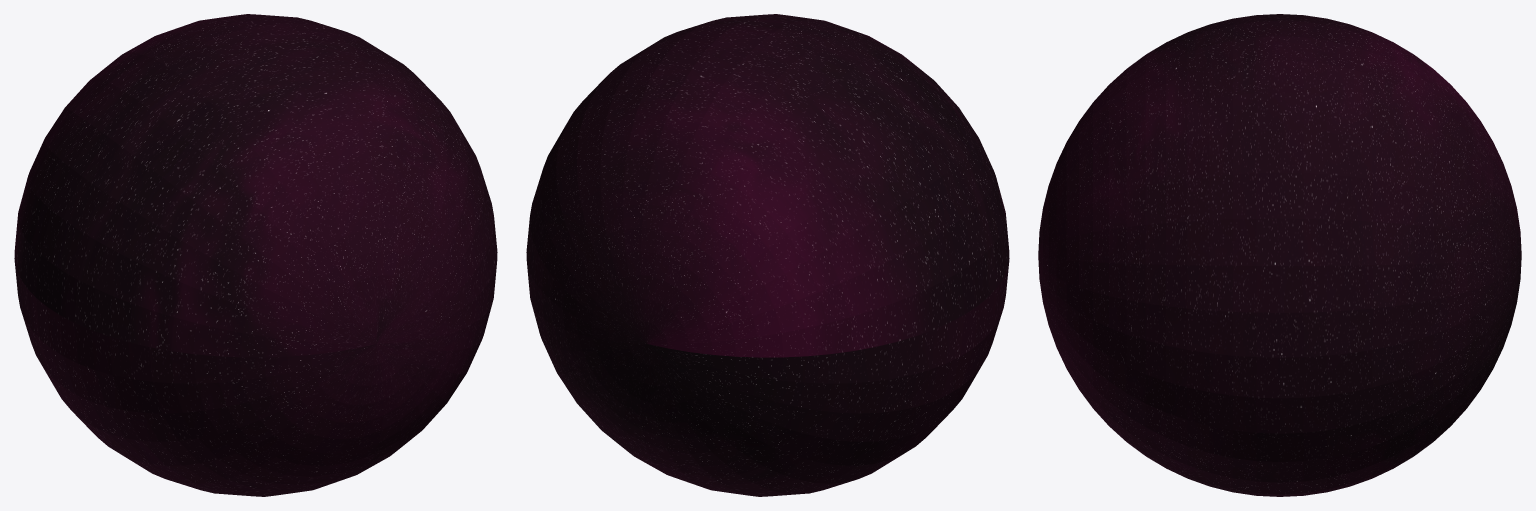
Rendered from Skyb.dae.
The picture shows the model from 3 angles, left to right: view 1: azimuth 30°, elevation 25°; view 2: azimuth 150°, elevation 25°; view 3: azimuth 270°, elevation 25°; orthographic projection.
Parts seen in each view (by area): view 1: Sphere; view 2: Sphere; view 3: Sphere.
Boxes of the visible parts, x1,y1,x2,y2 form: Sphere: (14,14,497,496); Sphere: (526,14,1009,496); Sphere: (1038,14,1521,496).
Bounding box in the file's own units: 200 × 200 × 200.
1 material, 1 textured.
